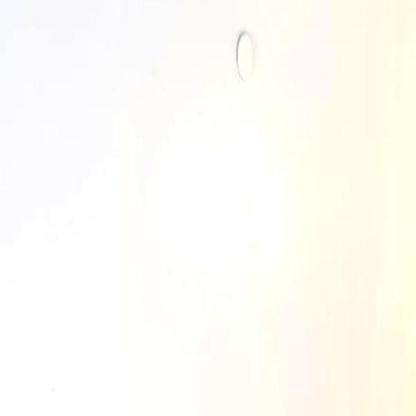light_on: (232, 154, 278, 276)
